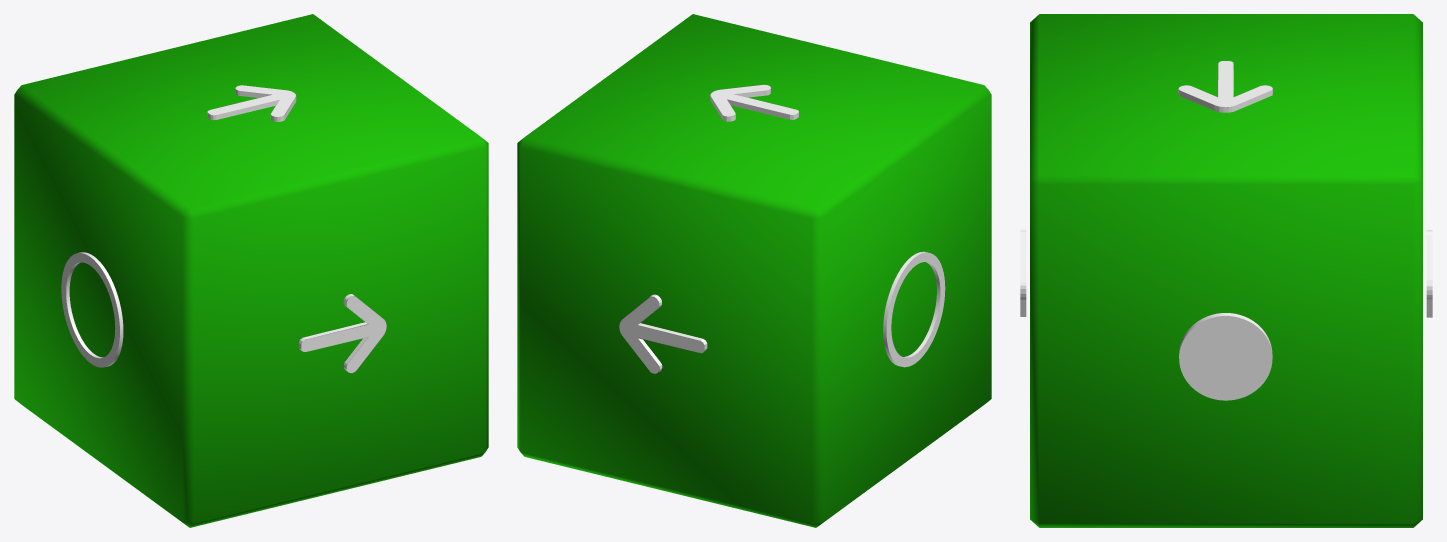
File: BigBoxTapFlowBox_2_2_2_Clean_test.fbx
3 views of the same model, side by side, from view 1: azimuth 30°, elevation 25°; view 2: azimuth 150°, elevation 25°; view 3: azimuth 270°, elevation 25° (orthographic). The views are drawn at different scales.
Visible parts, largest first — view 1: BigBoxTapFlowBox_2_2_2_Clean_test; view 2: BigBoxTapFlowBox_2_2_2_Clean_test; view 3: BigBoxTapFlowBox_2_2_2_Clean_test.
Part boxes in pixels (bbox=[...]): BigBoxTapFlowBox_2_2_2_Clean_test: bbox=[14, 14, 488, 527]; BigBoxTapFlowBox_2_2_2_Clean_test: bbox=[517, 14, 991, 527]; BigBoxTapFlowBox_2_2_2_Clean_test: bbox=[1020, 14, 1432, 527].
Bounding box in the file's own units: 2.21 × 2.2 × 2.2.
Materials: 1 (1 with a texture image).
